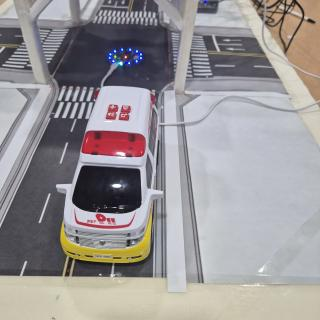Ambulance: (56, 86, 163, 263)
